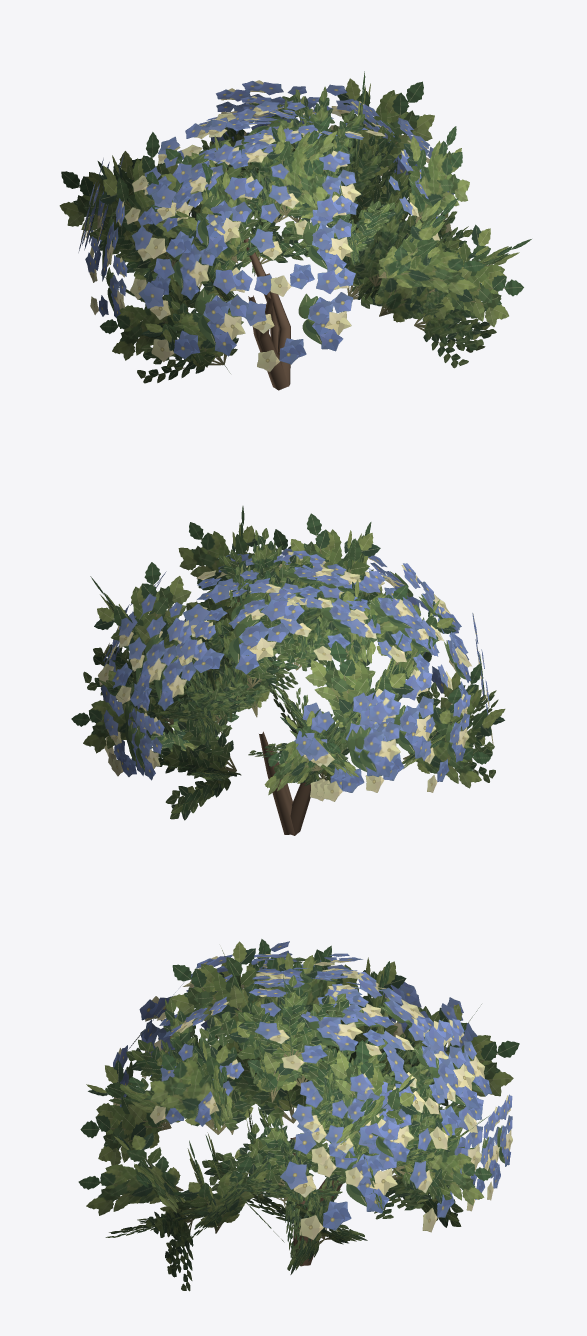
Rendered from SM_Bush_Flowering.glb.
3 renders of one model, top to bottom at view 1: azimuth 30°, elevation 25°; view 2: azimuth 150°, elevation 25°; view 3: azimuth 270°, elevation 25°, orthographic. The views are drawn at different scales.
Parts seen in each view (by area): view 1: SM_Bush_Flowering; view 2: SM_Bush_Flowering; view 3: SM_Bush_Flowering.
Boxes of the visible parts, box(x1,y1,x2,y2) form: SM_Bush_Flowering: box(59, 71, 531, 390); SM_Bush_Flowering: box(71, 506, 505, 835); SM_Bush_Flowering: box(78, 939, 519, 1291).
Size of the model in its own units: 1.92 by 1.39 by 1.94.
2 materials, 1 textured.
